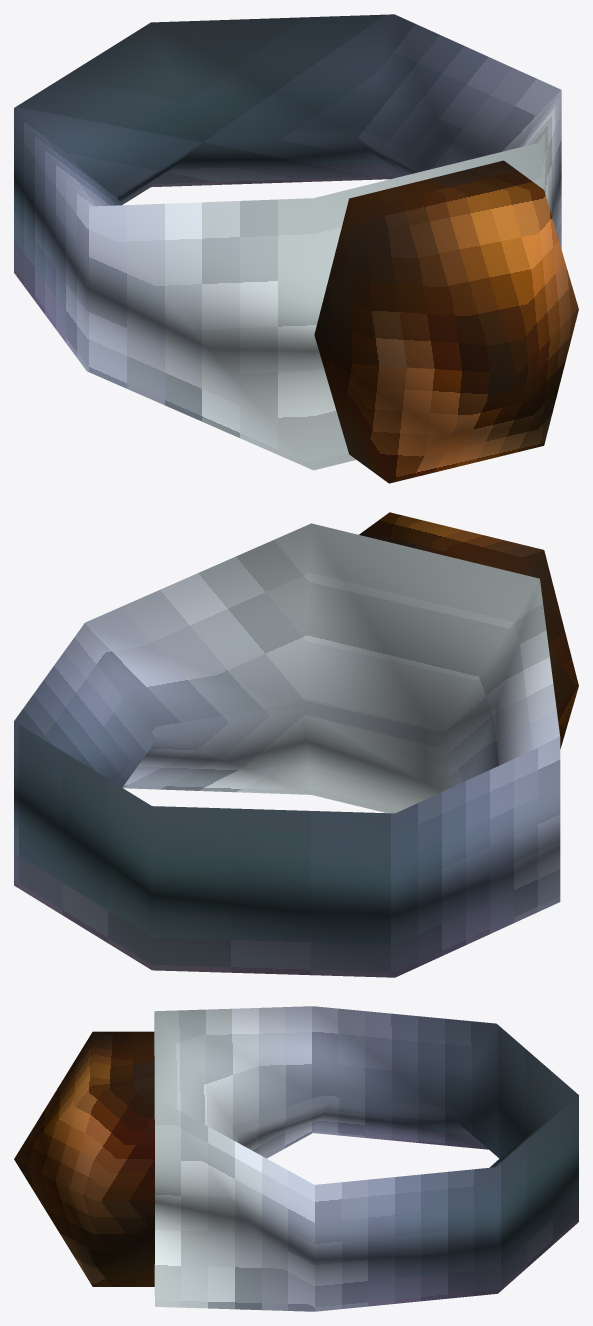
Rendered from groundring.glb.
3 views of the same model, one above another, from view 1: azimuth 30°, elevation 25°; view 2: azimuth 150°, elevation 25°; view 3: azimuth 270°, elevation 25° (orthographic). The views are drawn at different scales.
Parts seen in each view (by area): view 1: model_groundring; view 2: model_groundring; view 3: model_groundring.
Boxes of the visible parts, x1=… form: model_groundring: x1=14, y1=14, x2=578, y2=483; model_groundring: x1=14, y1=512, x2=578, y2=977; model_groundring: x1=14, y1=1006, x2=578, y2=1311.
Size of the model in its own units: 0.2183 by 0.1194 by 0.2917.
Materials: 2 (2 with a texture image).
